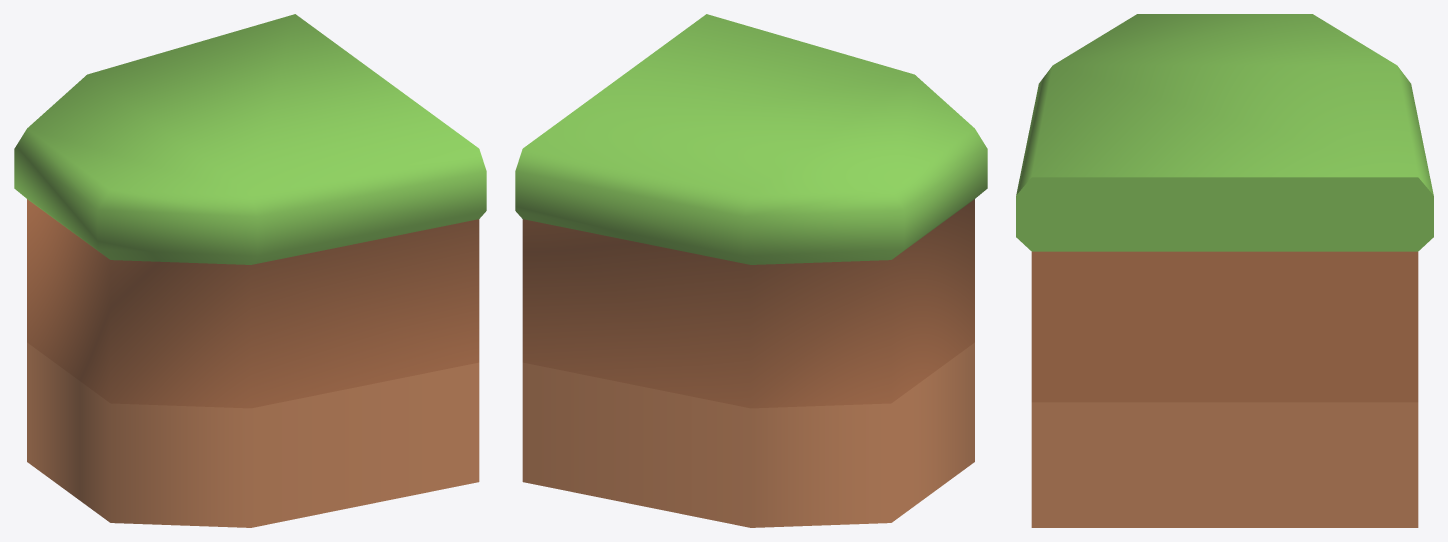
Rendered from 01_normal_top_left.glb.
3 renders of one model, left to right at view 1: azimuth 30°, elevation 25°; view 2: azimuth 150°, elevation 25°; view 3: azimuth 270°, elevation 25°, orthographic. The views are drawn at different scales.
Visible parts, largest first — view 1: 01_normal_top_left; view 2: 01_normal_top_left; view 3: 01_normal_top_left.
Part boxes in pixels (<box>): 01_normal_top_left: <box>14,14,486,527</box>; 01_normal_top_left: <box>515,14,987,527</box>; 01_normal_top_left: <box>1016,14,1433,527</box>.
Size of the model in its own units: 0.52 by 0.5 by 0.54.
